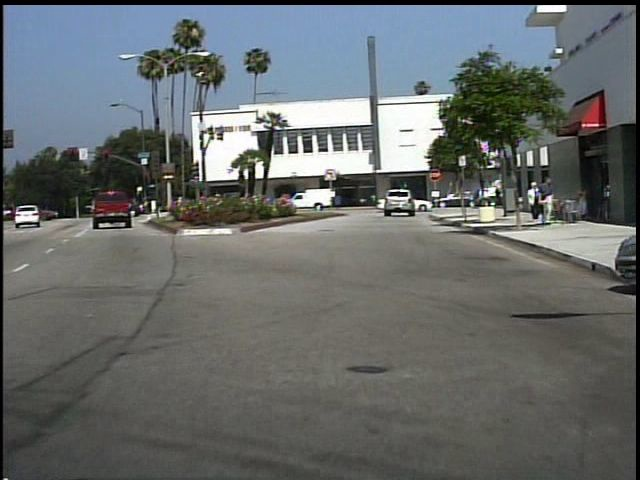person: (539, 176, 557, 230), (485, 183, 508, 215), (574, 181, 589, 223), (526, 180, 540, 223), (370, 189, 391, 217)
